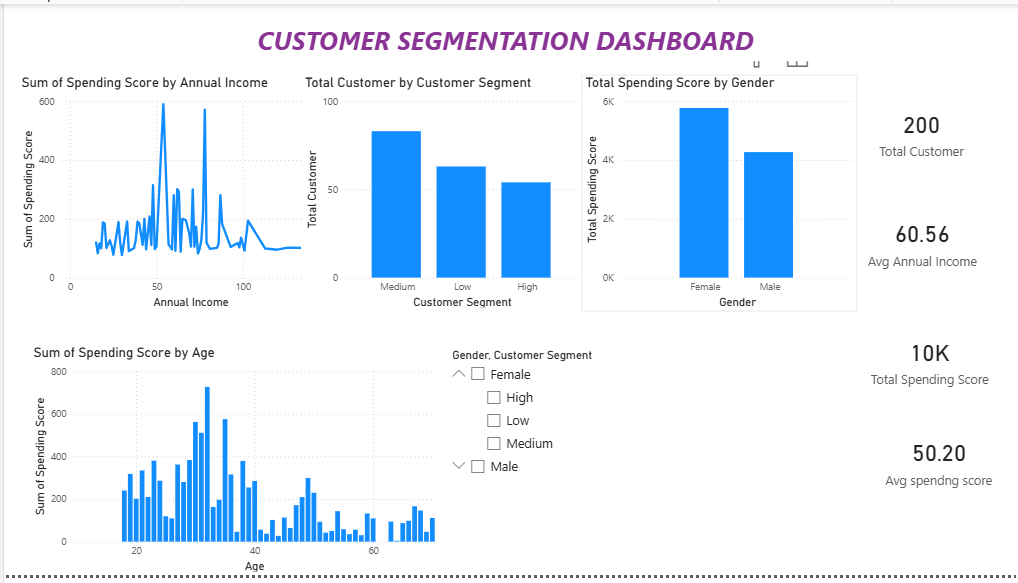

This screenshot's page, from the dashboard's own definition file:
{"tool":"powerbi","page":{"name":"Page 1","canvas":[1280,720],"ordinal":0},"visuals":[{"type":"card","fields":{"Values":["Mall_Customers.Total Customer"]},"box":[1043.2,88.8,224.9,143.6],"z":0},{"type":"card","fields":{"Values":["Mall_Customers.Avg Annual Income"]},"box":[1067.7,238.1,177.6,120.9],"z":1},{"type":"card","fields":{"Values":["Mall_Customers.Total Spending Score"]},"box":[1063.9,387.4,204.1,120.9],"z":2},{"type":"card","fields":{"Values":["Mall_Customers.Avg spendng score"]},"box":[1086.6,508.4,181.4,132.3],"z":3},{"type":"lineChart","fields":{"Category":["Mall_Customers.Annual Income"],"Y":["Sum(Mall_Customers.Spending Score)"]},"box":[17,88.8,385.5,298.6],"z":4},{"type":"clusteredColumnChart","fields":{"Category":["Mall_Customers.Customer Segment"],"Y":["Mall_Customers.Total Customer"]},"box":[374.2,88.8,355.3,298.6],"z":5},{"type":"clusteredColumnChart","fields":{"Category":["Mall_Customers.Gender"],"Y":["Mall_Customers.Total Spending Score"]},"box":[727.6,88.8,347.7,298.6],"z":6},{"type":"clusteredColumnChart","fields":{"Category":["Mall_Customers.Age"],"Y":["Sum(Mall_Customers.Spending Score)"]},"box":[32.1,429,519.7,291],"z":7},{"type":"slicer","fields":{"Values":["Mall_Customers.Gender","Mall_Customers.Customer Segment"]},"box":[551.8,429,232.4,211.7],"z":8},{"type":"textbox","box":[32.1,0,1200,71.8],"z":9}]}

Visuals, with their boxes in screenshot pixels (x1, y1, x2, y2), scaled from the page's 1280x720 canvas onto the 1018x583 screenshot:
card - Mall_Customers.Total Customer: bbox(830, 72, 1009, 188)
card - Mall_Customers.Avg Annual Income: bbox(849, 193, 990, 291)
card - Mall_Customers.Total Spending Score: bbox(846, 314, 1008, 412)
card - Mall_Customers.Avg spendng score: bbox(864, 412, 1008, 519)
lineChart - Mall_Customers.Annual Income x Sum(Mall_Customers.Spending Score): bbox(14, 72, 320, 314)
clusteredColumnChart - Mall_Customers.Customer Segment x Mall_Customers.Total Customer: bbox(298, 72, 580, 314)
clusteredColumnChart - Mall_Customers.Gender x Mall_Customers.Total Spending Score: bbox(579, 72, 855, 314)
clusteredColumnChart - Mall_Customers.Age x Sum(Mall_Customers.Spending Score): bbox(26, 347, 439, 582)
slicer - Mall_Customers.Gender x Mall_Customers.Customer Segment: bbox(439, 347, 624, 519)
textbox: bbox(26, 0, 980, 58)
